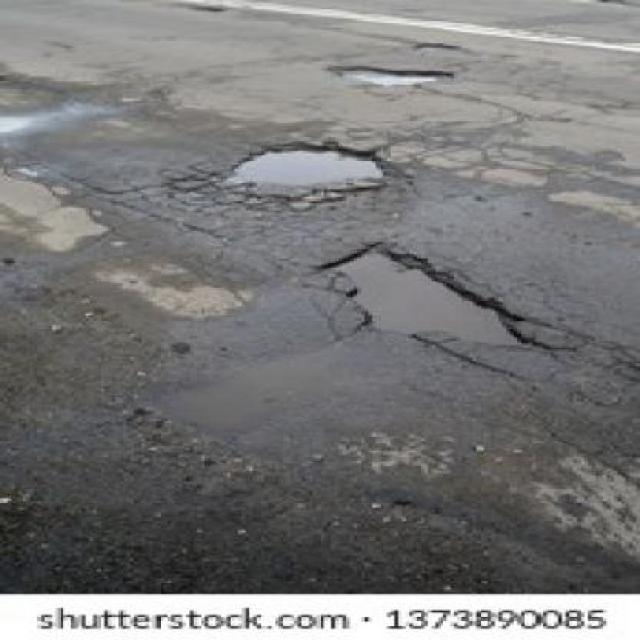Pothole: (323, 236, 562, 366), (218, 139, 387, 191), (332, 58, 460, 89)
